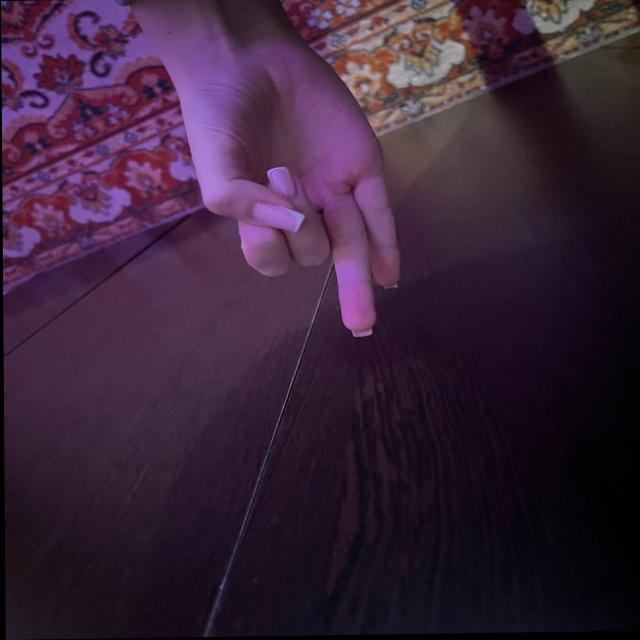i: (116, 65, 436, 349)
